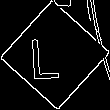L_N: (38, 29, 72, 81)
